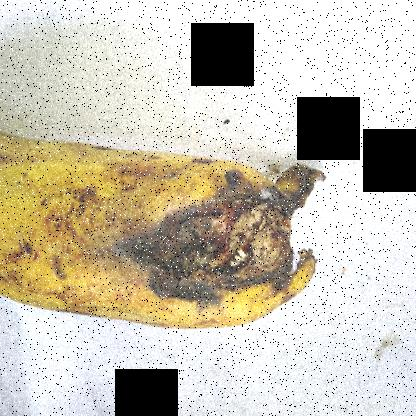rotten: (87, 134, 324, 356)
